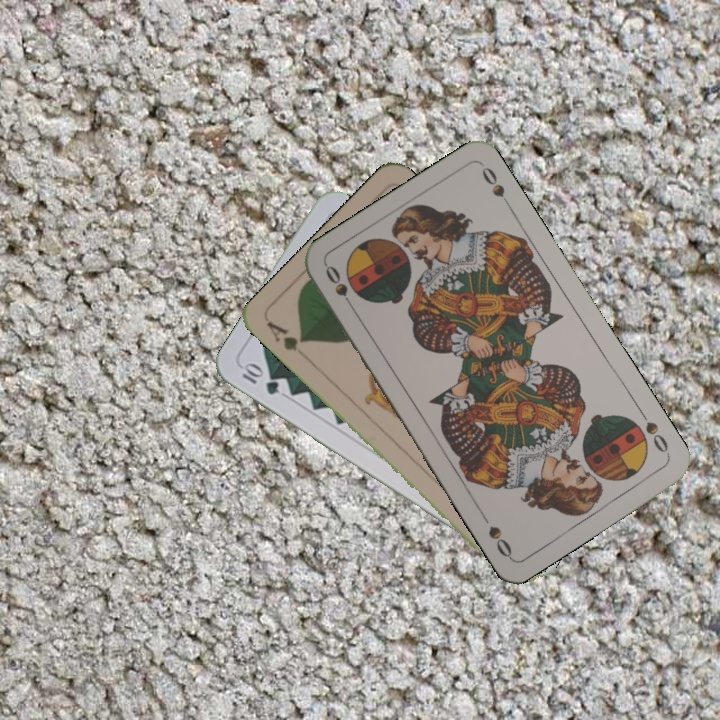G10: (238, 359, 282, 398)
GA: (262, 317, 312, 362)
SO: (321, 261, 359, 315), (635, 405, 673, 459)
